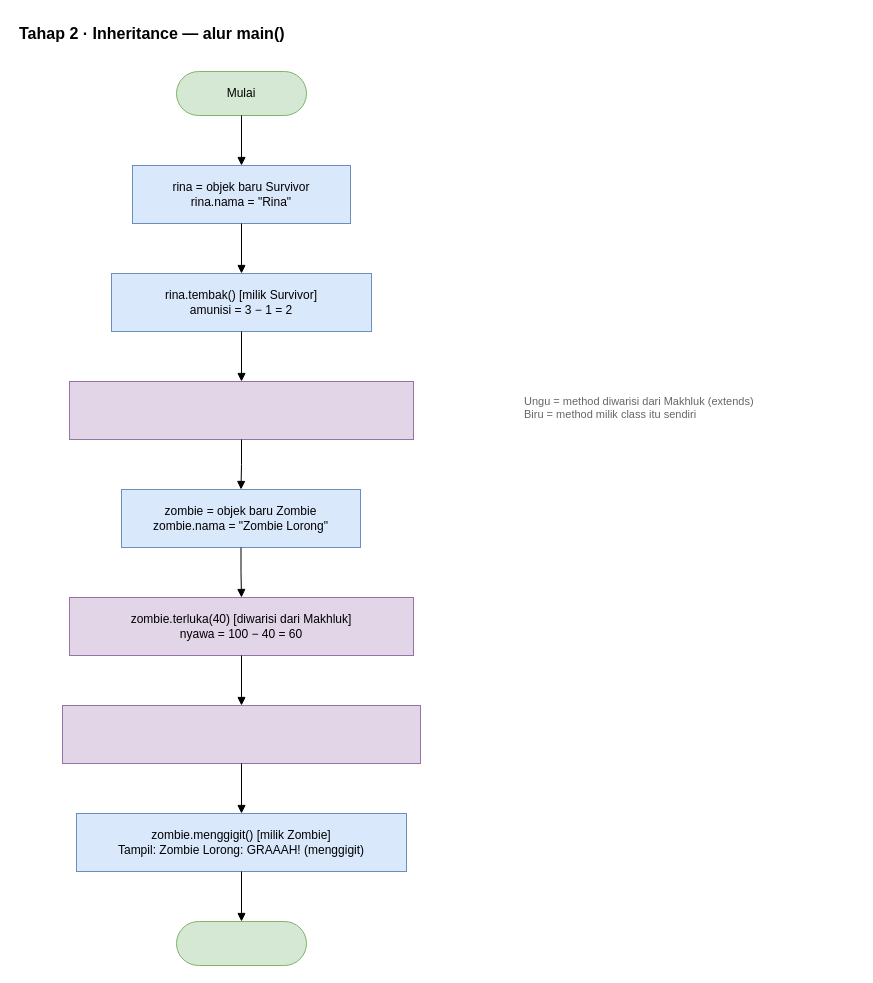
Some shapes in this 873 by 983 pixel diagram are drawn without their labels. The shapes that lost their labels are listed below. From the top down, each one's centre as x and y in pixels, then its label:
At [241,410]: "rina.printStatus() [diwarisi dari Makhluk] Tampil: Rina - nyawa: 100".
At [241,734]: "zombie.printStatus() [diwarisi dari Makhluk] Tampil: Zombie Lorong - nyawa: 60".
At [241,943]: "Selesai".
